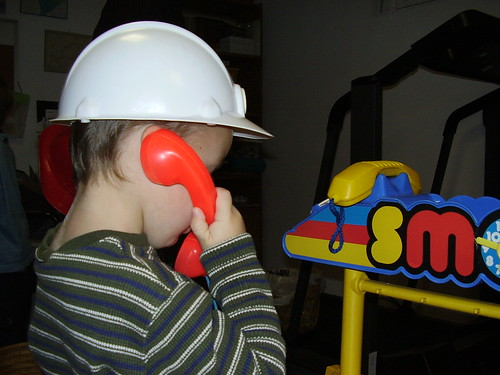person hardhat: (50, 20, 276, 248)
